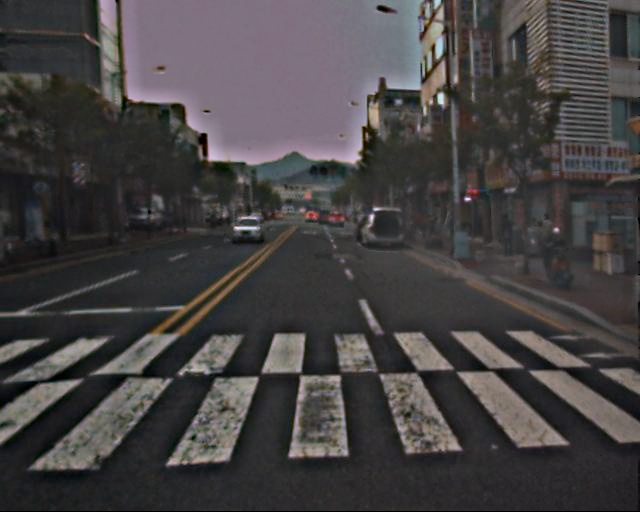person: (537, 211, 560, 268), (498, 212, 517, 258)
